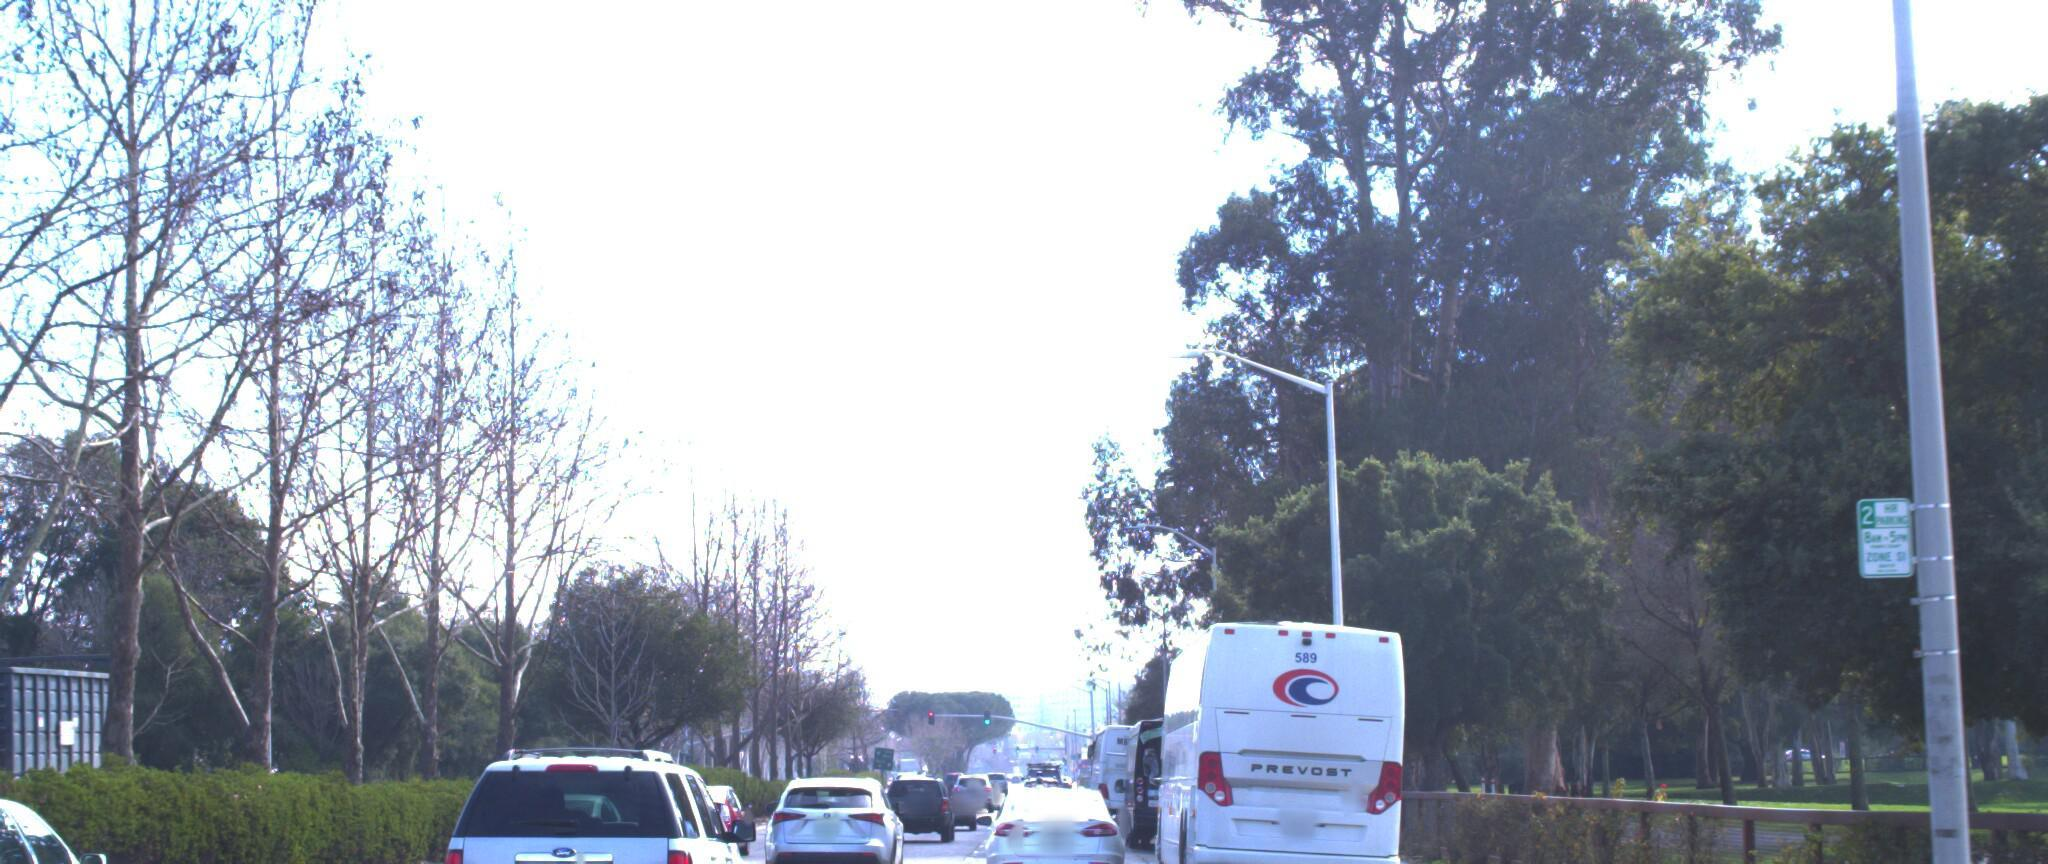bus: (1138, 606, 1428, 864), (1104, 709, 1242, 844)
car: (426, 727, 768, 864), (0, 775, 159, 864), (1979, 663, 2048, 864), (746, 774, 899, 864), (970, 774, 1117, 864), (886, 777, 963, 847)
truck: (0, 626, 146, 864)
